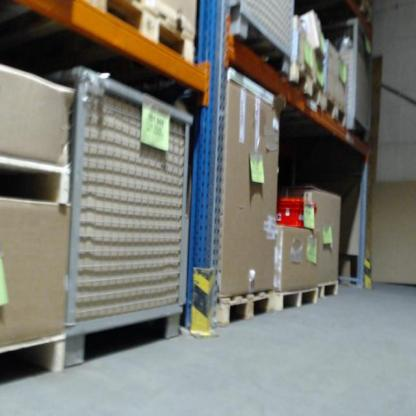pallet: (81, 0, 197, 68), (3, 161, 76, 202), (0, 335, 65, 377), (212, 287, 276, 329), (286, 58, 325, 110), (273, 282, 322, 315), (324, 93, 348, 126), (317, 280, 340, 302)
small_load_carrier: (277, 195, 318, 228)
stillage: (70, 64, 191, 369), (315, 14, 375, 151), (224, 1, 298, 80)
